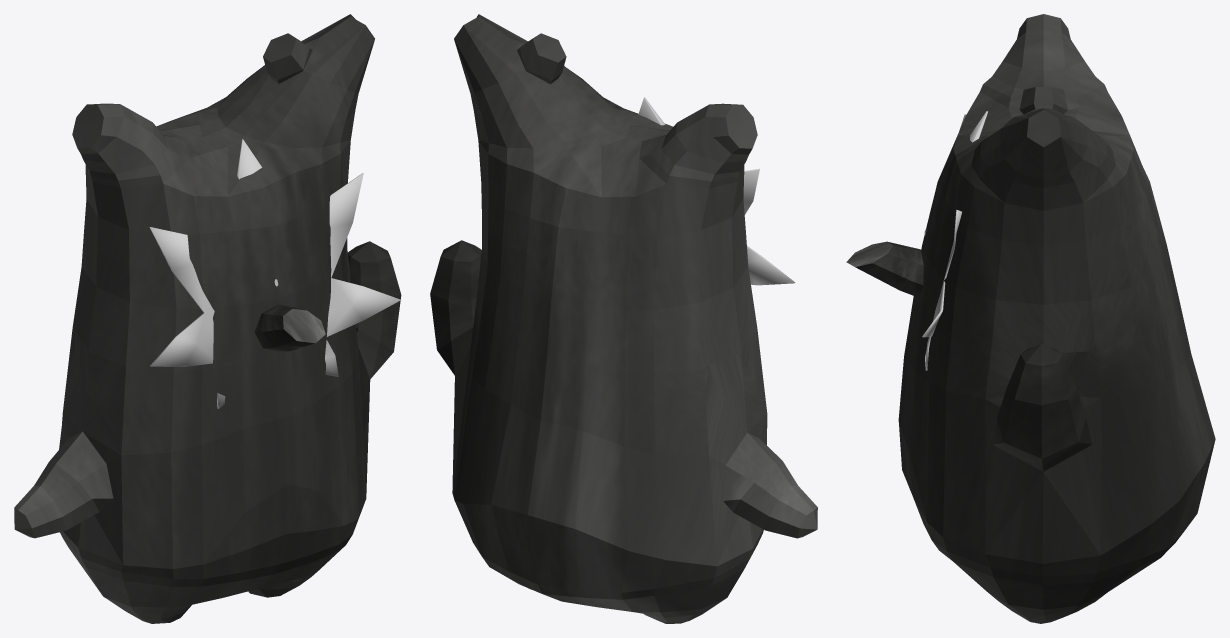
Rendered from frame_0079.obj.
3 renders of one model, left to right at view 1: azimuth 30°, elevation 25°; view 2: azimuth 150°, elevation 25°; view 3: azimuth 270°, elevation 25°, orthographic.
Visible parts, largest first — view 1: korok, leaf, nose.003_柱体.011; view 2: korok, leaf; view 3: korok, nose.003_柱体.011, leaf.
Boxes of the visible parts, left/top/right/bottom form: korok: left=14, top=14, right=401, bottom=623; leaf: left=149, top=139, right=400, bottom=408; nose.003_柱体.011: left=254, top=304, right=325, bottom=351; korok: left=430, top=14, right=817, bottom=623; leaf: left=638, top=97, right=795, bottom=285; korok: left=898, top=14, right=1215, bottom=623; nose.003_柱体.011: left=846, top=241, right=923, bottom=297; leaf: left=922, top=111, right=987, bottom=370.
Bounding box in the file's own units: 1.61 × 2.24 × 1.36.
